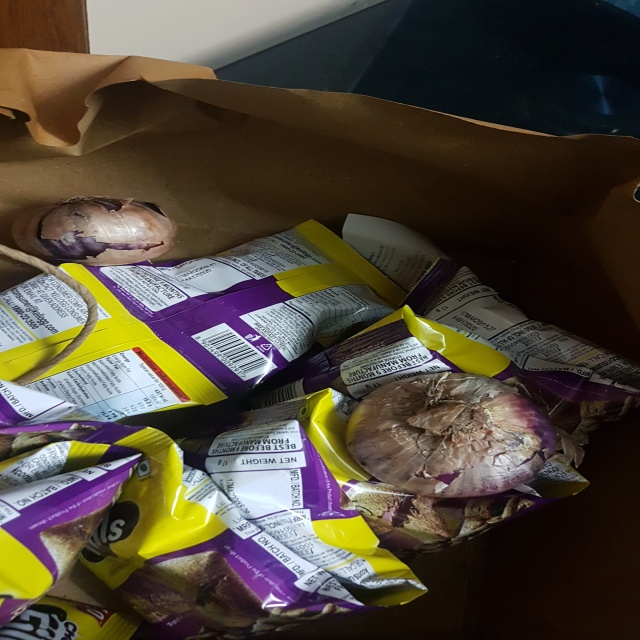onion: (336, 363, 563, 505), (10, 198, 188, 271)
